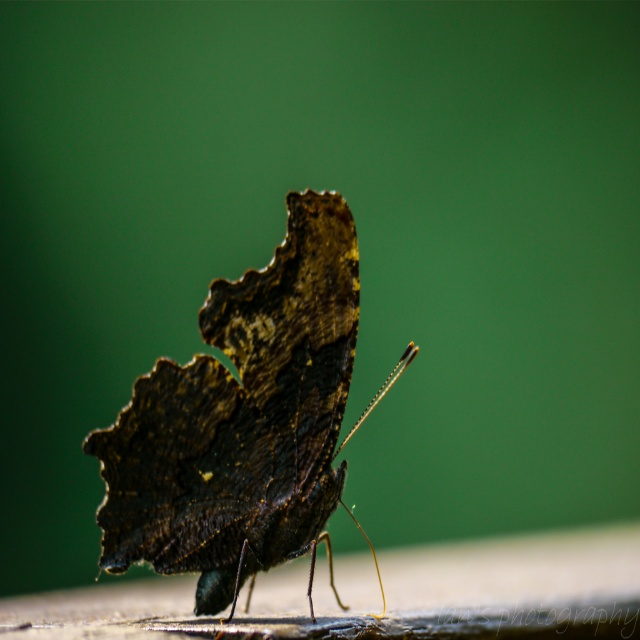Butterfly: (88, 189, 418, 635)
